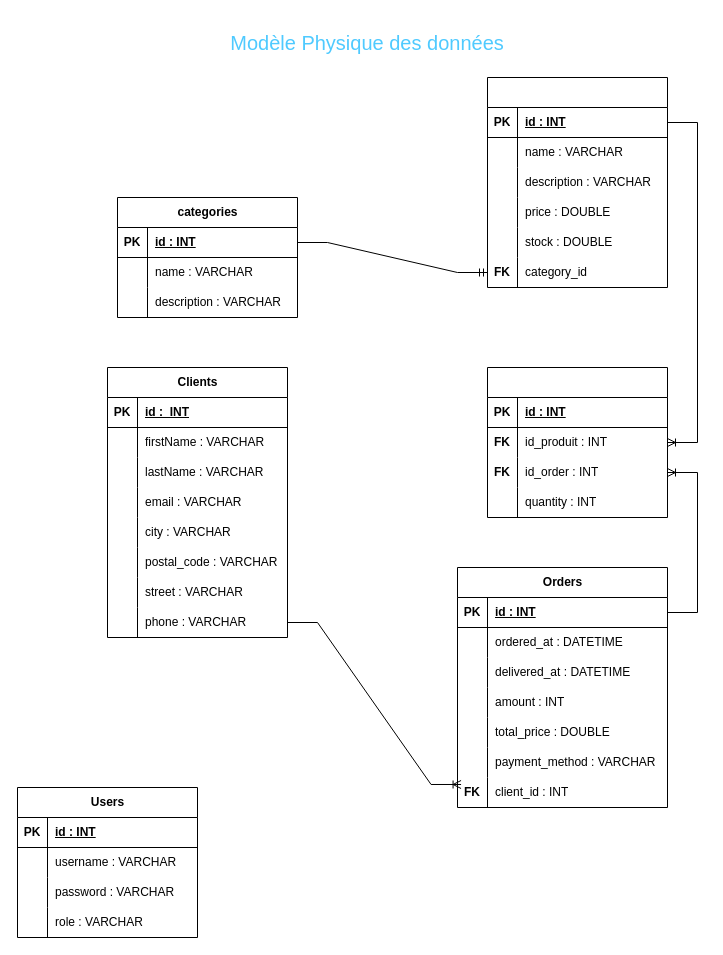
Some shapes in this 723 by 955 pixel diagram are drawn without their labels. The box of each missing label's shape, as (x1, y1, x2, y2) in pixels:
product_order: (486, 366, 668, 518)
products: (486, 76, 668, 288)
